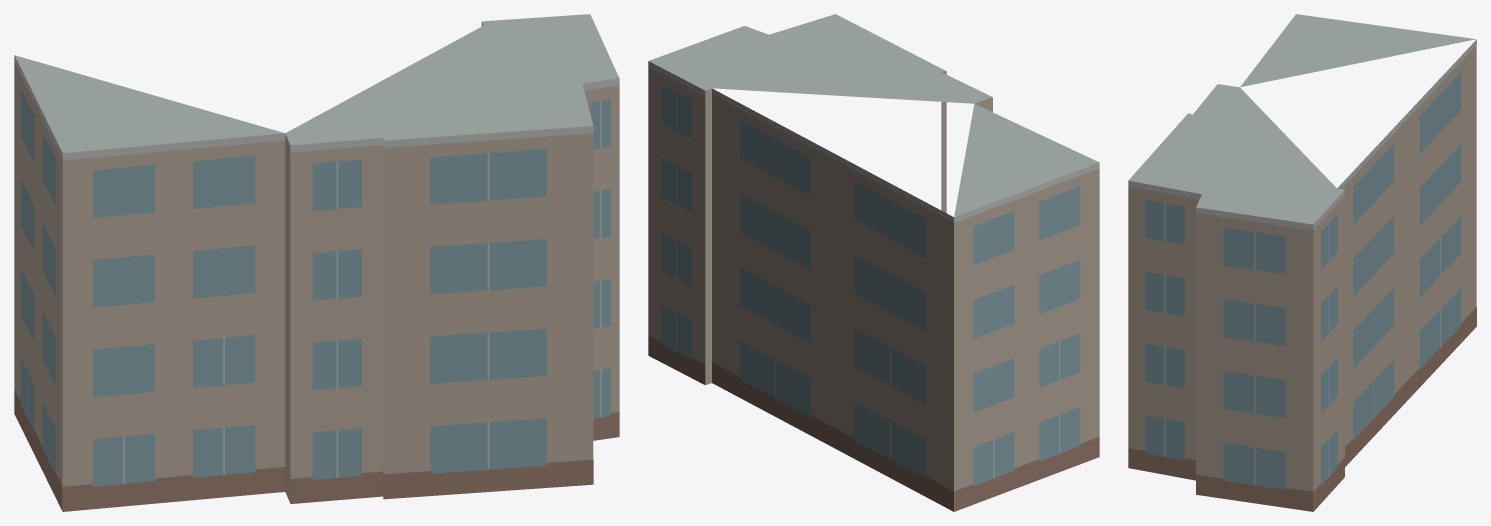
Rendered from survey-upis-32655232.glb.
3 views of the same model, side by side, from view 1: azimuth 30°, elevation 25°; view 2: azimuth 150°, elevation 25°; view 3: azimuth 270°, elevation 25° (orthographic). The views are drawn at different scales.
Parts seen in each view (by area): view 1: survey-upis-32655232.tmp; view 2: survey-upis-32655232.tmp; view 3: survey-upis-32655232.tmp.
Part boxes in pixels (x1,y1,x2,y2): survey-upis-32655232.tmp: (14,14,619,511); survey-upis-32655232.tmp: (648,14,1099,511); survey-upis-32655232.tmp: (1128,14,1476,511).
Bounding box in the file's own units: 19.18 × 12.2 × 13.42.
